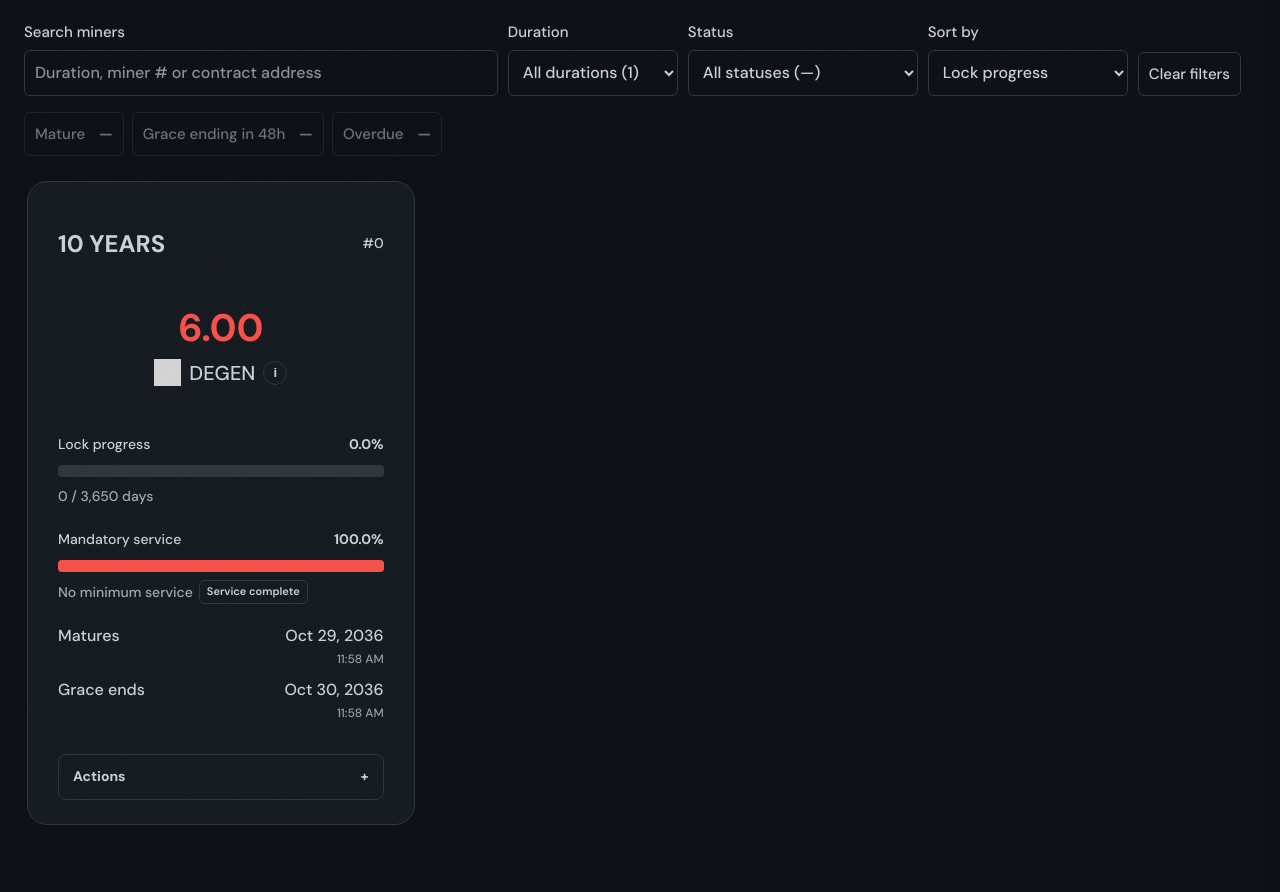
Test: miner positions › rejects a position that changed after the action panel opened
(page scrolled)
Click the button "Actions +": (99, 776) [58,754,384,800]
(page scrolled)
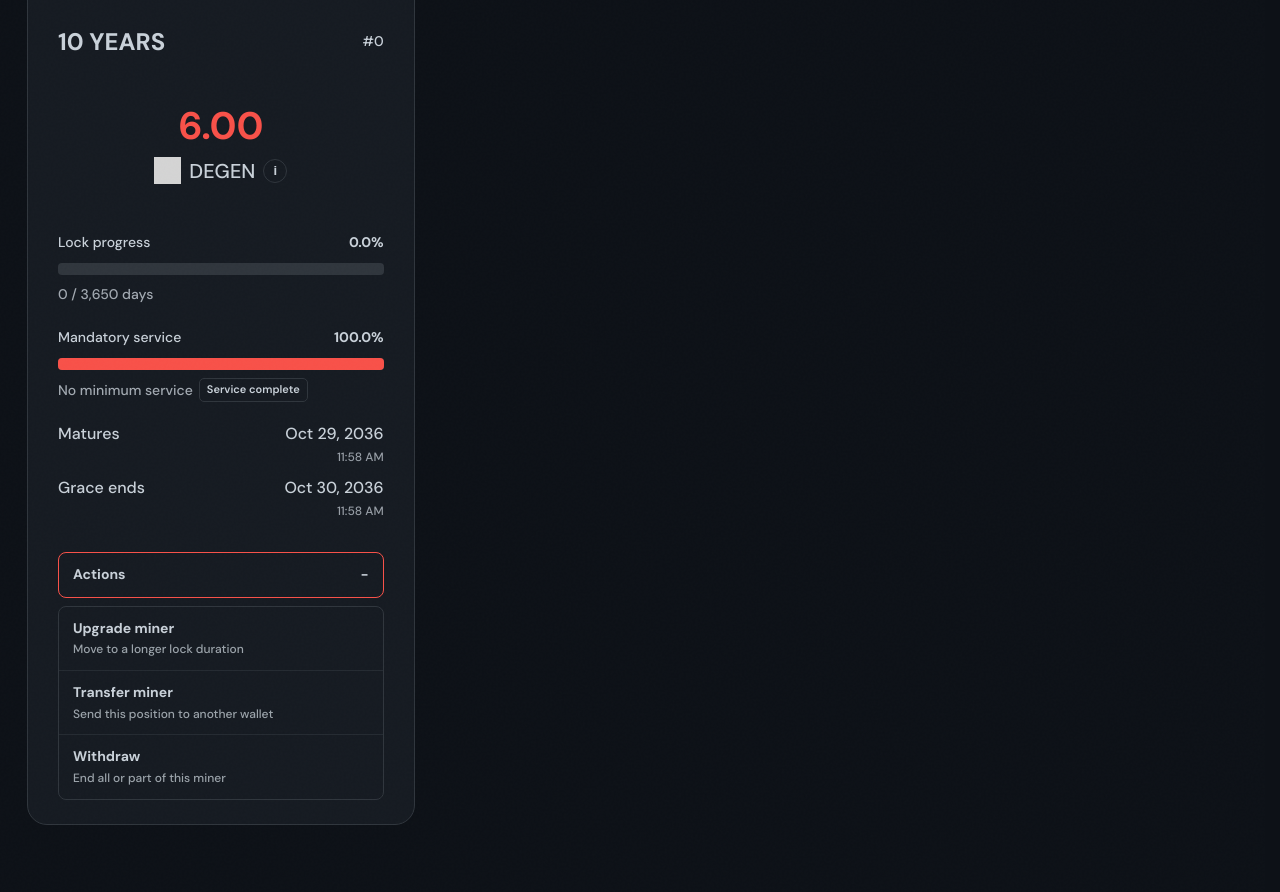
Click the button with aria-label "Transfer Miner To Another Wallet": (123, 692) [59,670,383,734]
(page scrolled)
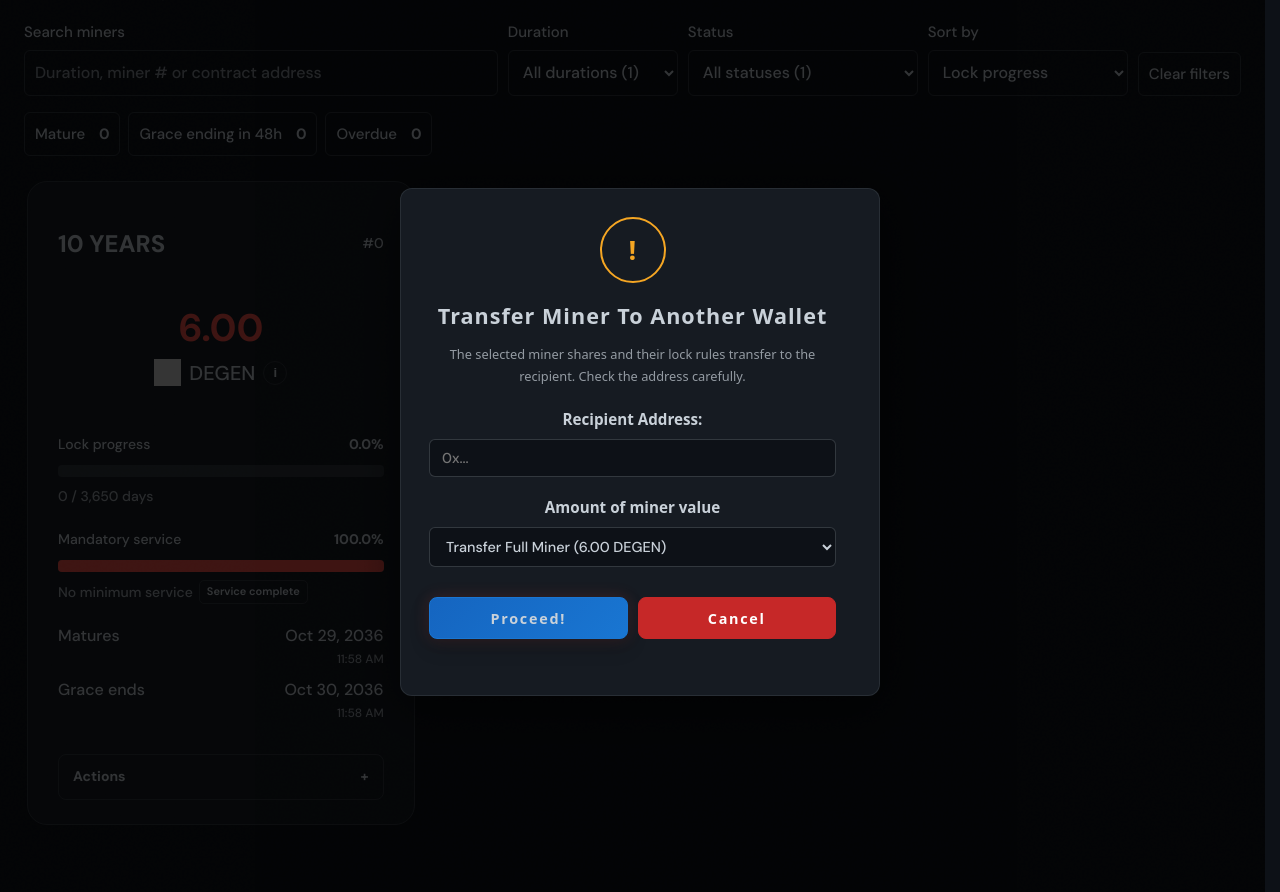
In the field with placeholder "0x...": (632, 458) [429,439,836,477], type "0x0000000000000000000000000000000000000002"
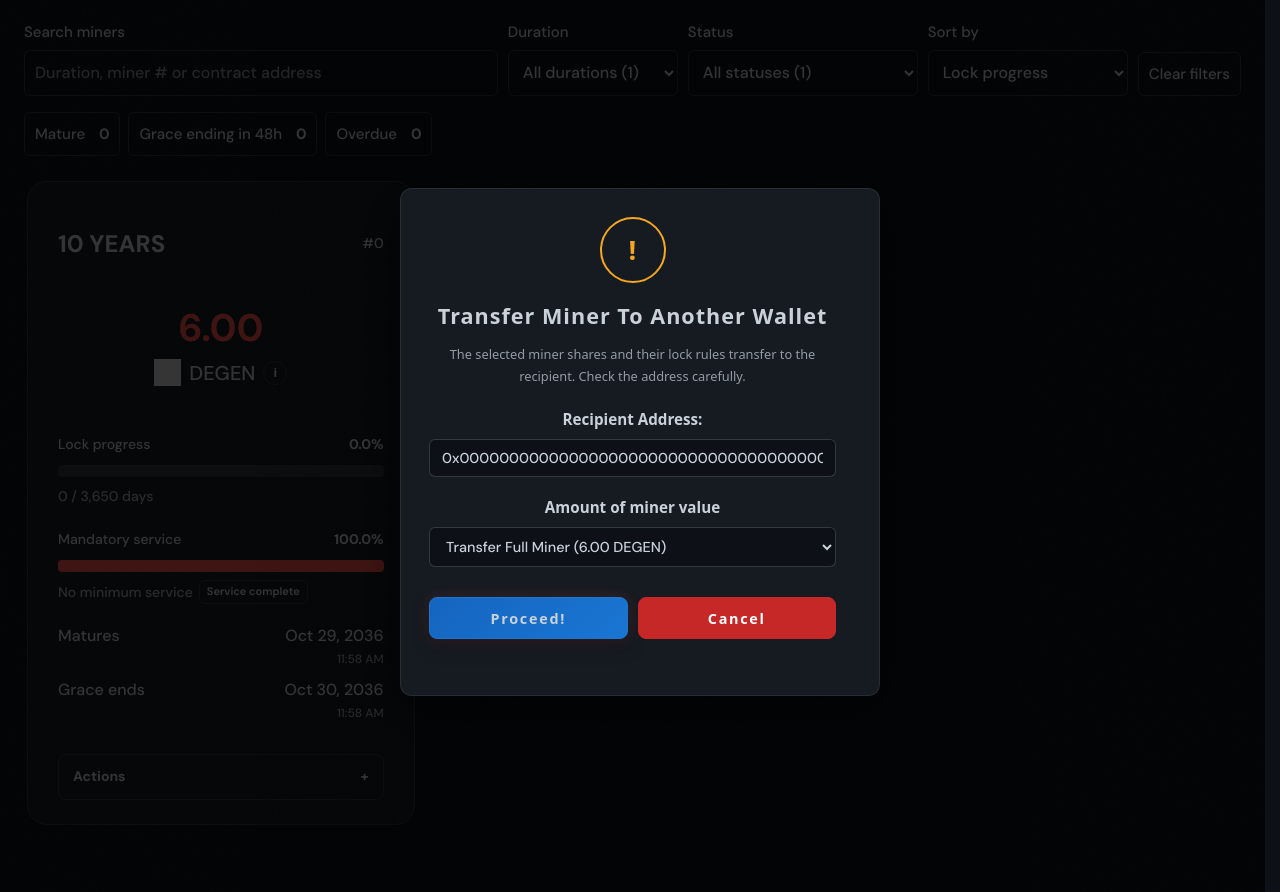
Click the button "Proceed!": (528, 618) [429,597,628,639]
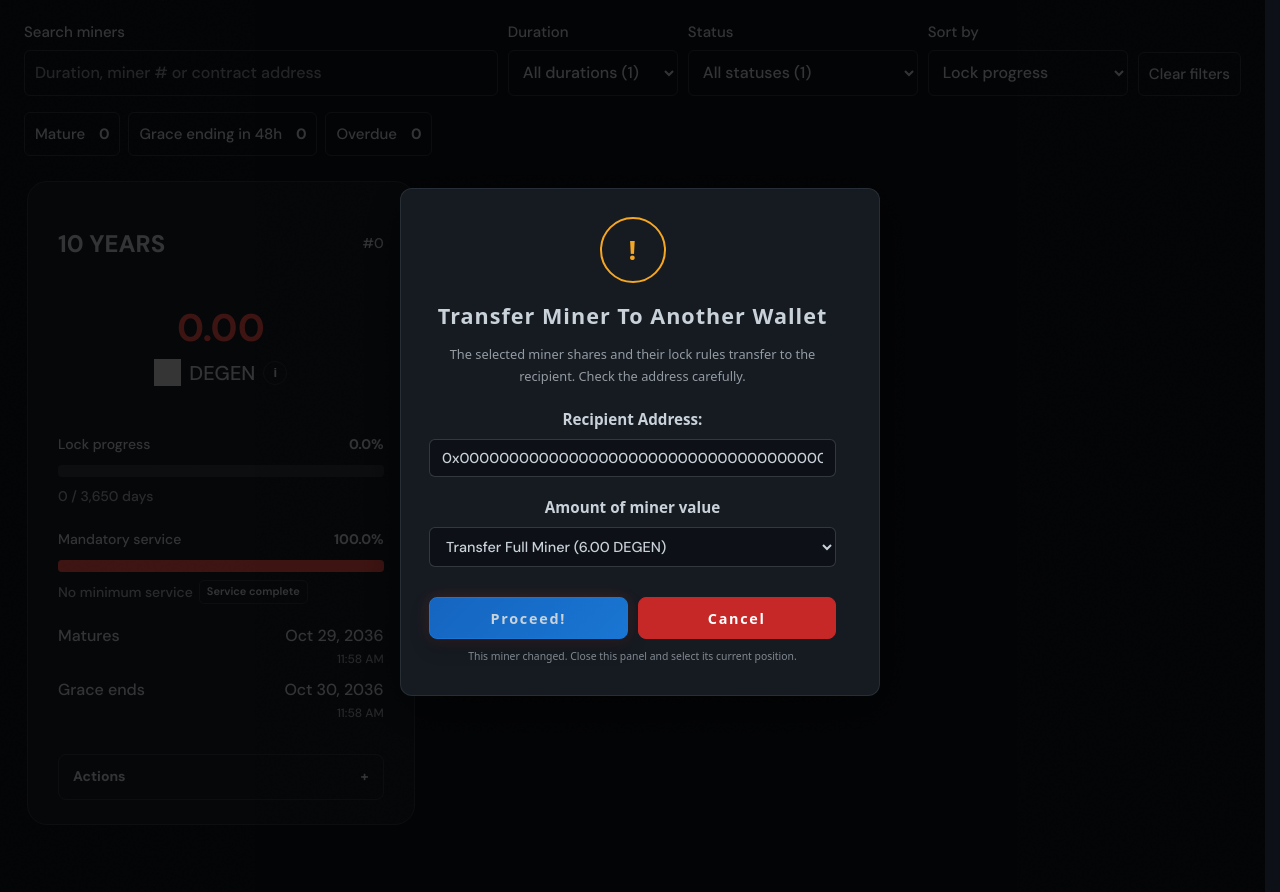
Result: the text "This miner changed. Close this panel and select its current position." is shown at [468,649,797,663]
